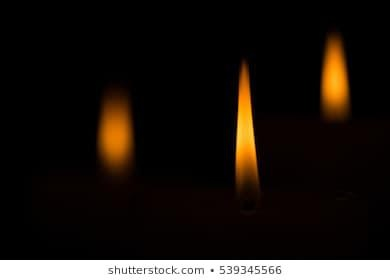fire: (232, 56, 260, 201), (96, 84, 136, 173), (318, 29, 349, 118)
